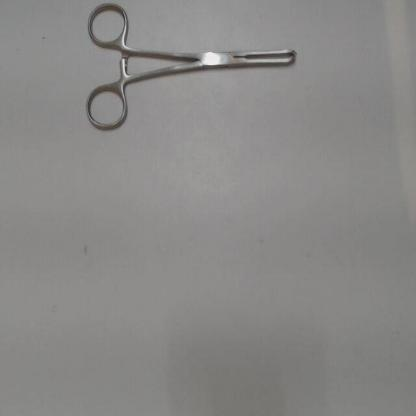Allis Tissue Forceps: (81, 2, 306, 144)
